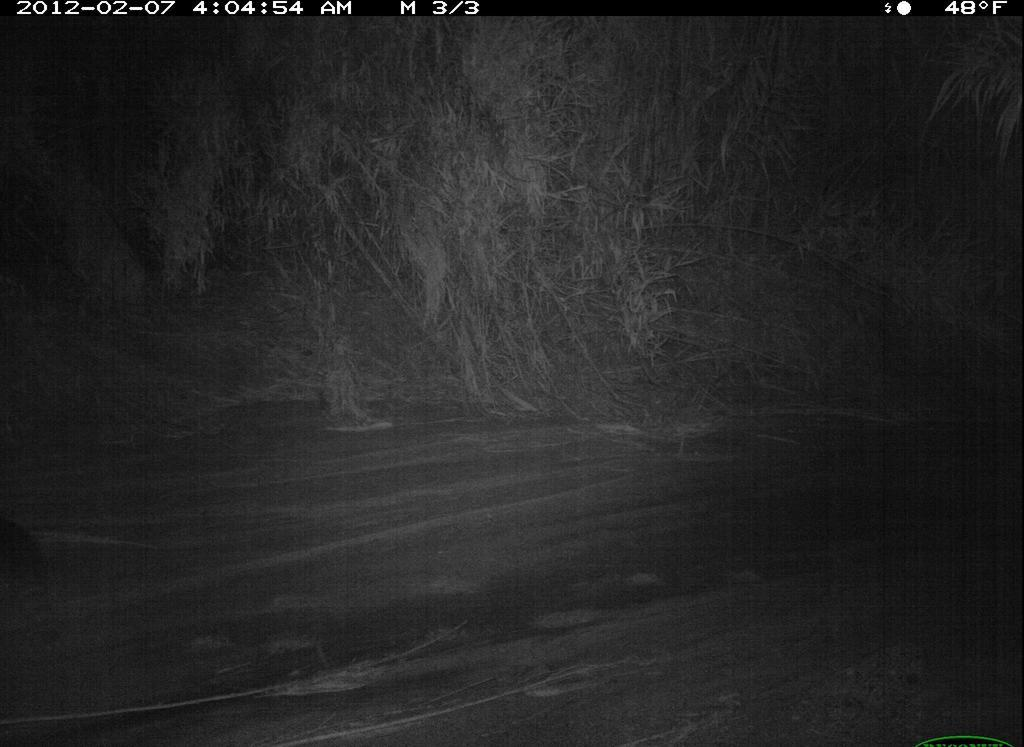raccoon: (3, 506, 75, 656)
